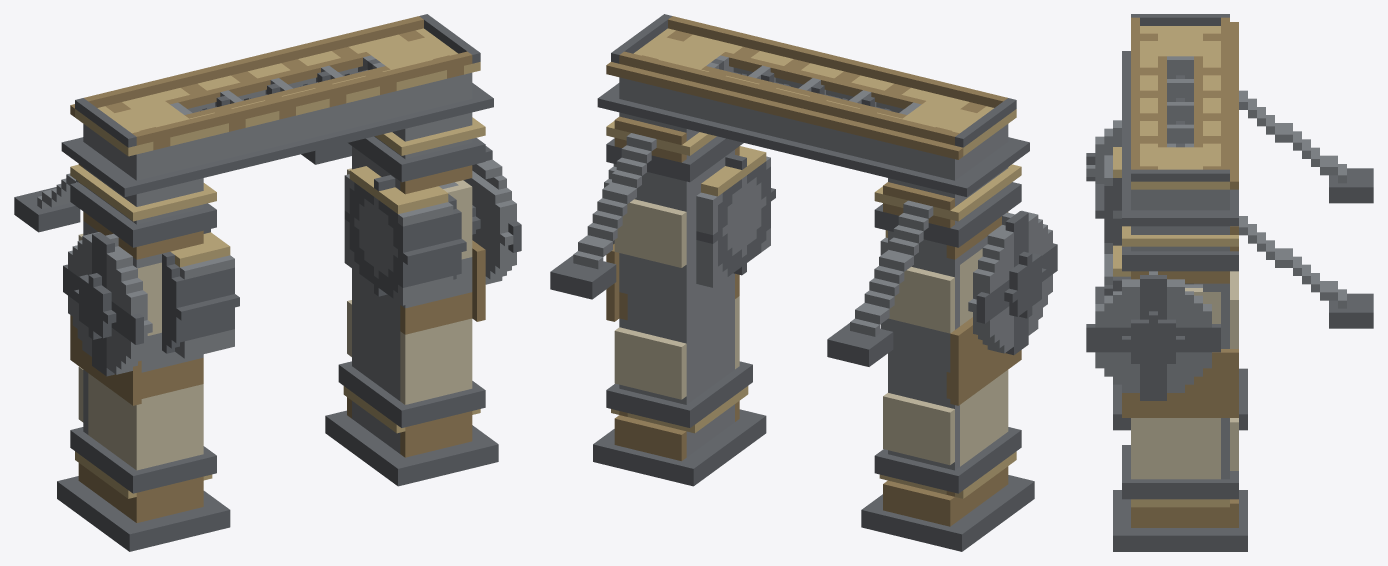
The model's file is gantry.glb.
3 renders of one model, left to right at view 1: azimuth 30°, elevation 25°; view 2: azimuth 150°, elevation 25°; view 3: azimuth 270°, elevation 25°, orthographic. The views are drawn at different scales.
Bounding box in the file's own units: 48 × 46 × 32.
